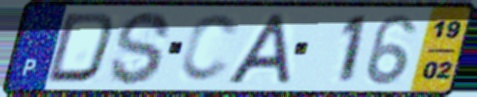1: (336, 12, 371, 86)
6: (361, 11, 419, 88)
A: (223, 12, 294, 87)
C: (177, 12, 242, 85)
D: (42, 10, 118, 86)
S: (107, 9, 175, 88)
